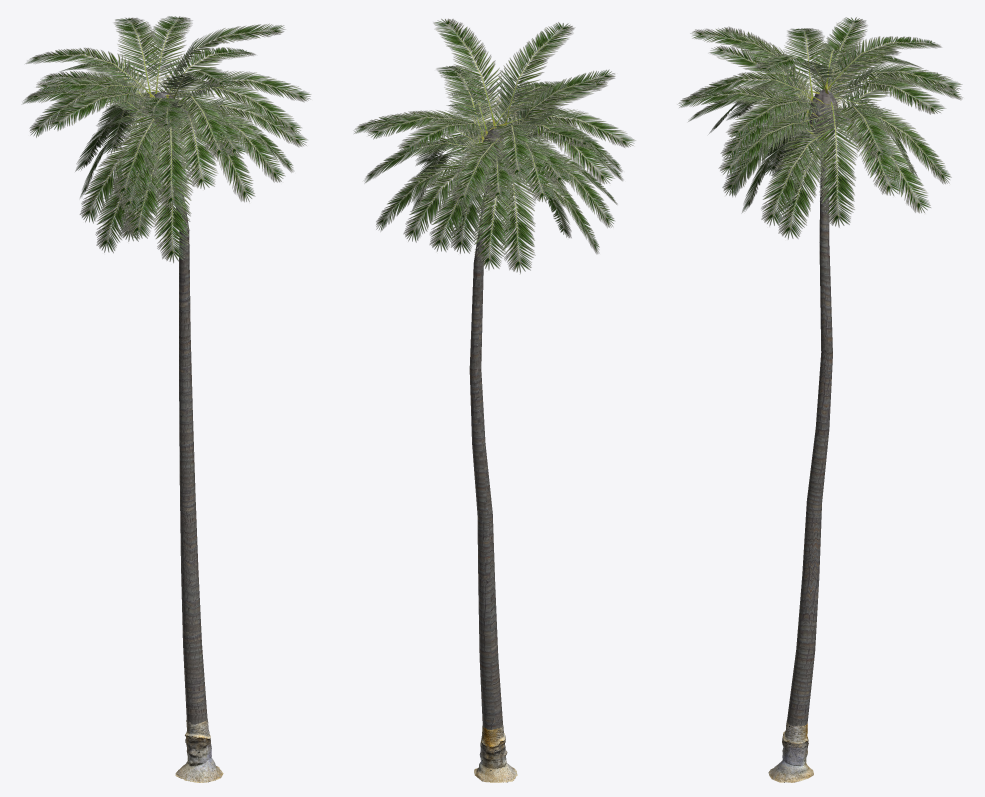
File: coconut_d.glb
3 renders of one model, left to right at view 1: azimuth 30°, elevation 25°; view 2: azimuth 150°, elevation 25°; view 3: azimuth 270°, elevation 25°, orthographic.
Parts seen in each view (by area): view 1: PALMLOW3_w; view 2: PALMLOW3_w; view 3: PALMLOW3_w.
Part boxes in pixels (<box>): PALMLOW3_w: <box>22,16,311,782</box>; PALMLOW3_w: <box>353,18,635,782</box>; PALMLOW3_w: <box>677,17,962,782</box>.
Bounding box in the file's own units: 4.13 × 11.5 × 4.2.
3 materials, 3 textured.
